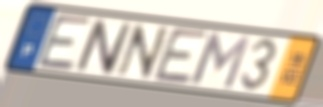3: (239, 37, 280, 93)
E: (150, 25, 212, 87), (33, 12, 95, 73)
M: (188, 30, 253, 92)
N: (73, 16, 134, 77), (114, 22, 173, 82)
